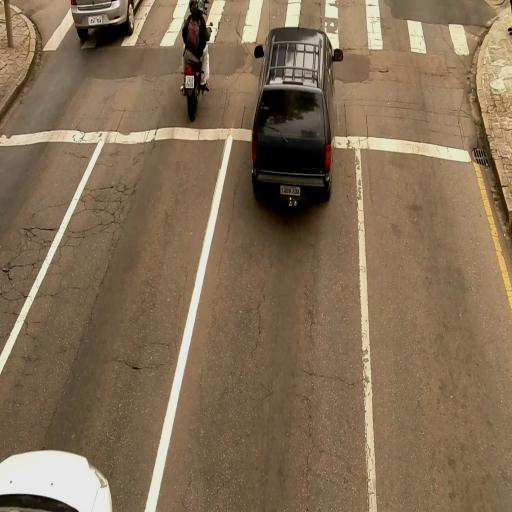car: (246, 25, 337, 203), (0, 450, 114, 510), (72, 1, 148, 43)
motorcycle: (178, 8, 214, 125)
